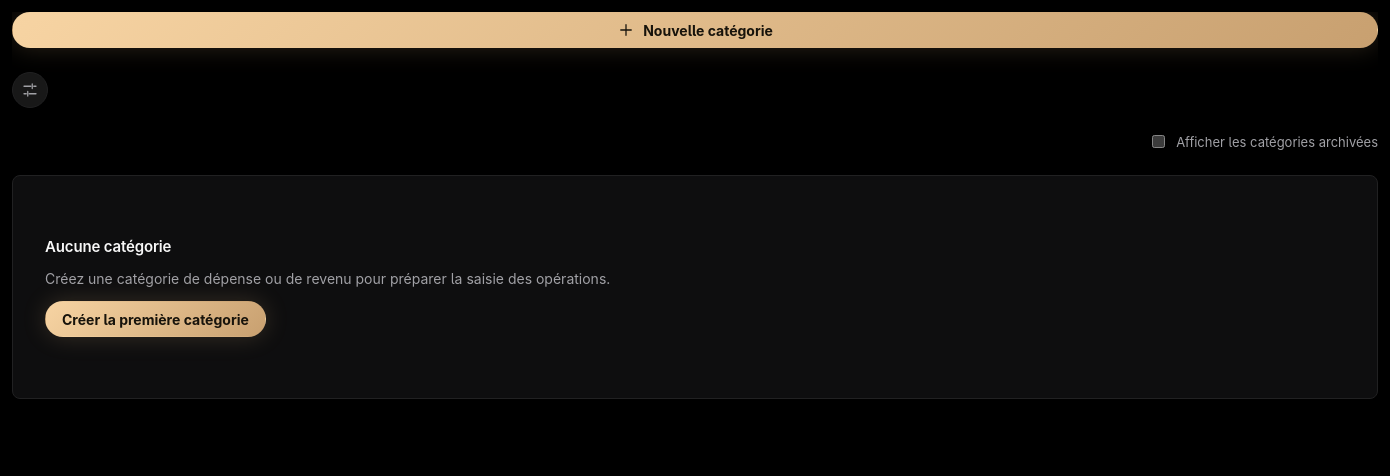
CategoryPage › renders labels as text and keeps archived categories read-only
Check: the heading "Aucune catégorie" is shown, box [45, 237, 171, 256]
Click the checkbox labelled "Afficher les catégories archivées" at (1159, 142), box [1152, 135, 1165, 148]
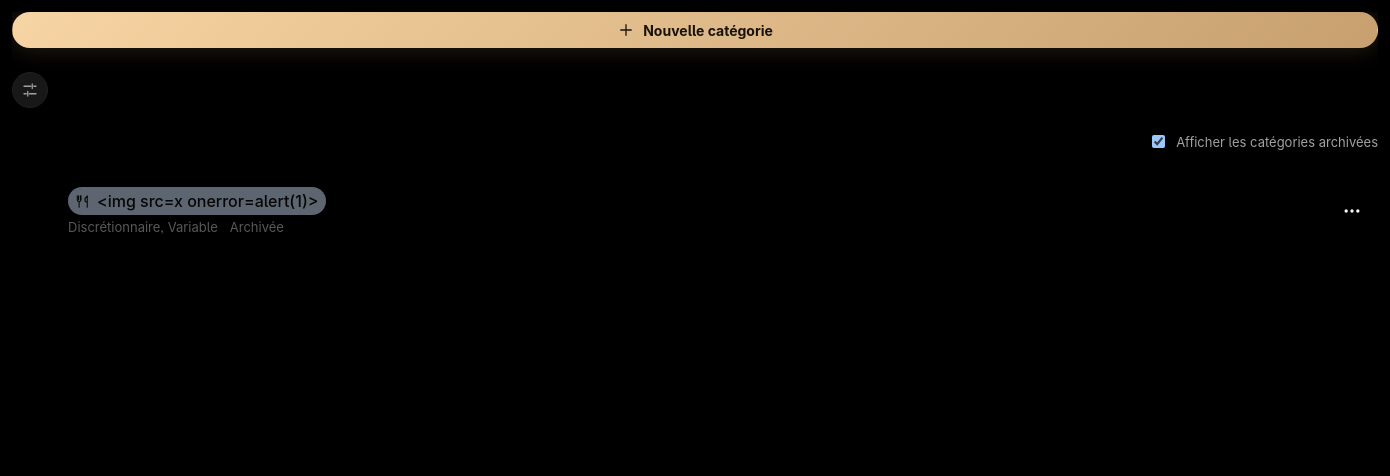
Check: the text "<img src=x onerror=alert(1)>" is shown, box [97, 191, 318, 211]
Check: the text "Archivée" is shown, box [230, 219, 284, 235]
Click the button named "Actions de la catégorie « <img src=x onerror=alert(1)> »" at (1352, 211), box [1334, 193, 1370, 229]
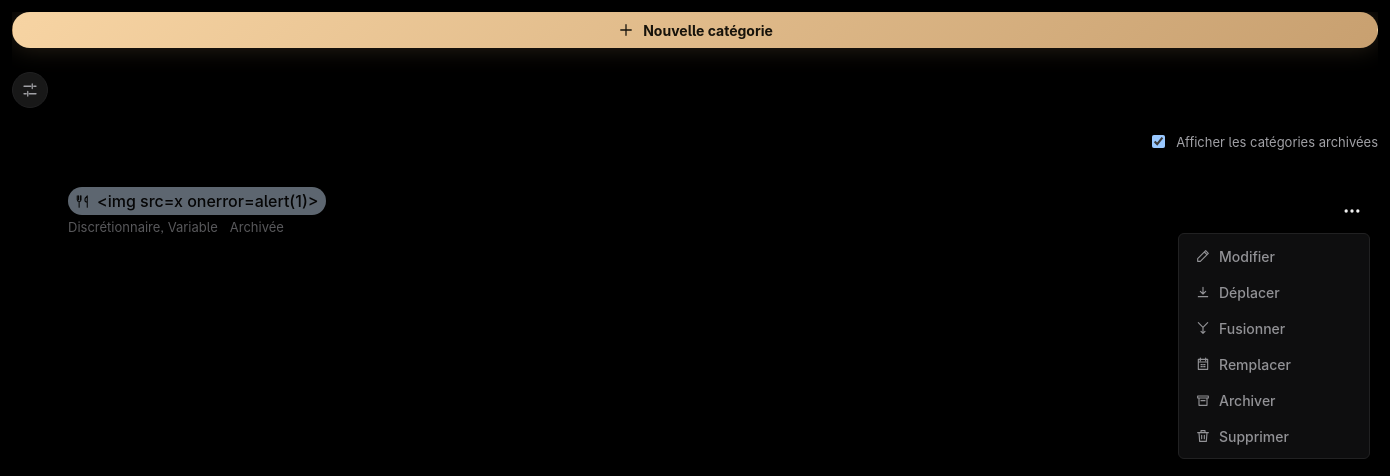
Check: the button "Modifier" is disabled, box [1183, 238, 1365, 274]
